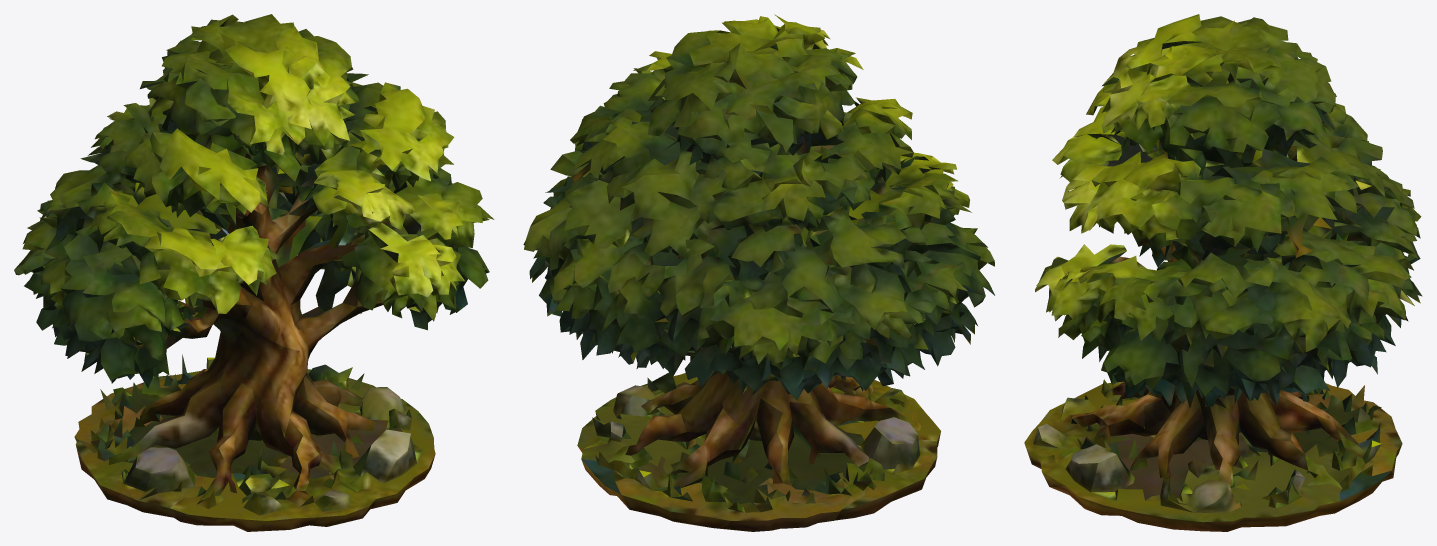
Rendered from arvore.glb.
3 renders of one model, left to right at view 1: azimuth 30°, elevation 25°; view 2: azimuth 150°, elevation 25°; view 3: azimuth 270°, elevation 25°, orthographic.
Visible parts, largest first — view 1: tmphh1mz3w8.ply; view 2: tmphh1mz3w8.ply; view 3: tmphh1mz3w8.ply.
Part boxes in pixels (x1,y1,x2,y2): tmphh1mz3w8.ply: (14,14,494,531); tmphh1mz3w8.ply: (523,14,994,531); tmphh1mz3w8.ply: (1024,14,1422,531).
Size of the model in its own units: 1.95 by 1.97 by 1.64.
1 material, 1 textured.
